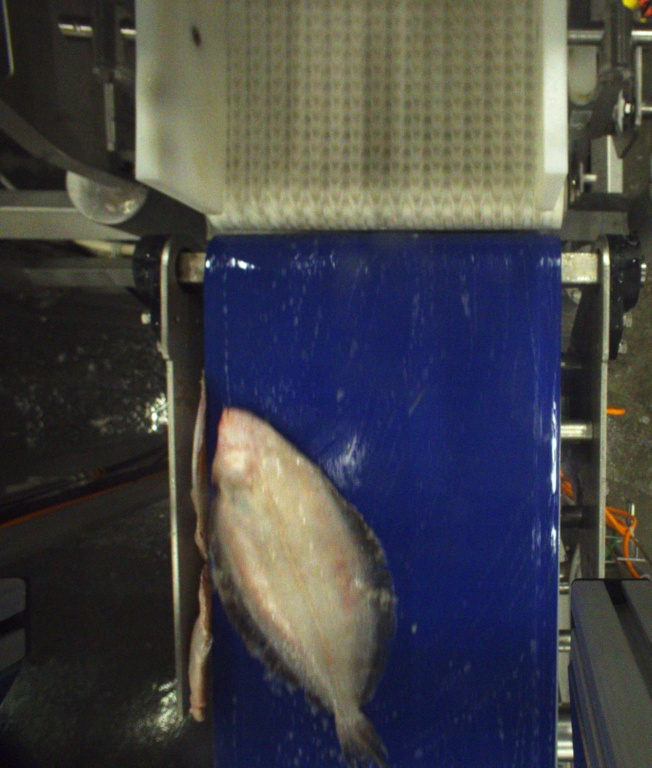WIT: (203, 403, 396, 768)
